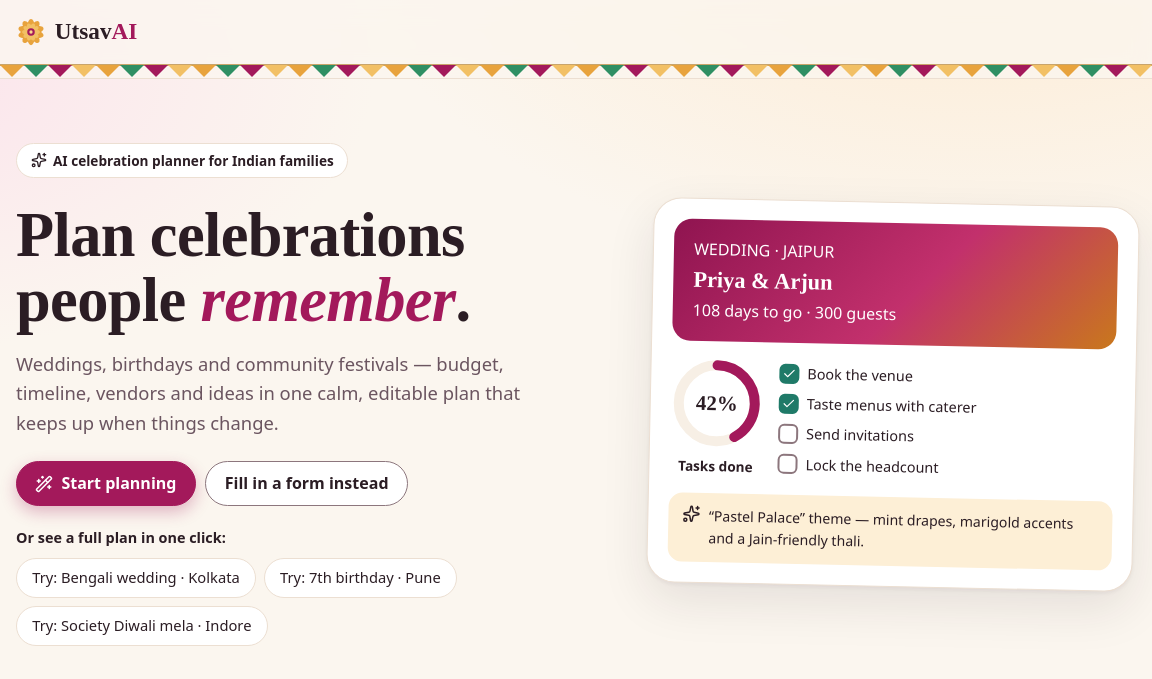
it: landing shortcuts › opens a full sample plan in one click
Click the button "Try: 7th birthday · Pune": point(360, 578) [264,558,457,598]
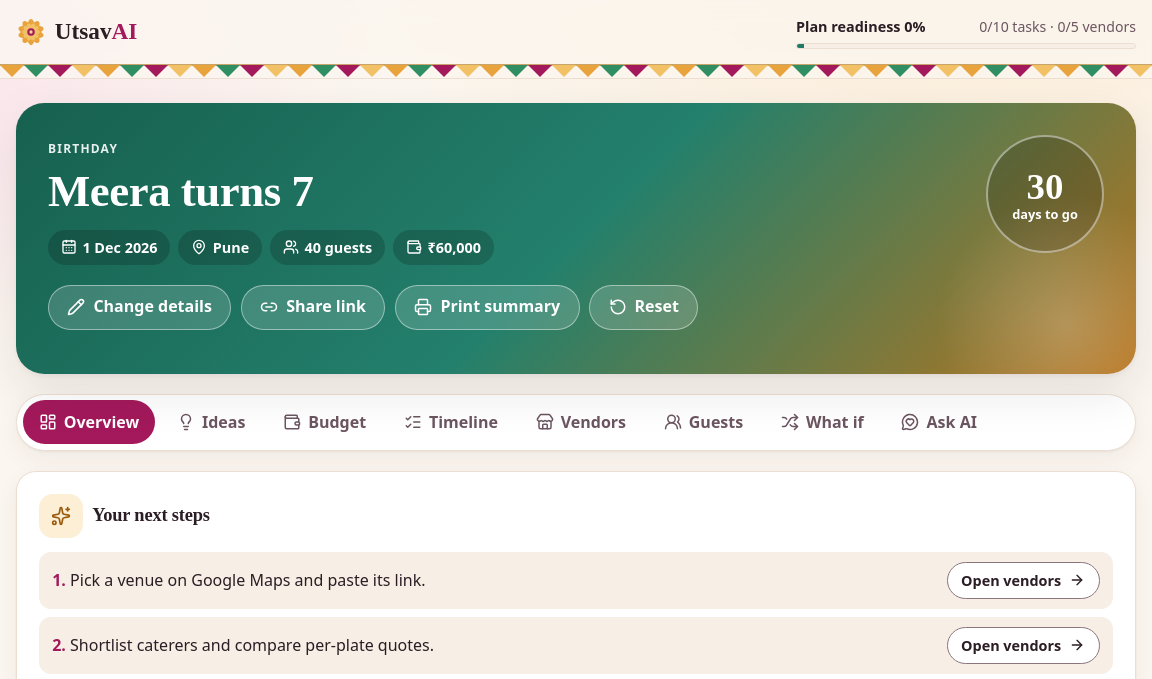
Check: the heading "Meera turns 7" is shown, box [48,166,313,216]
